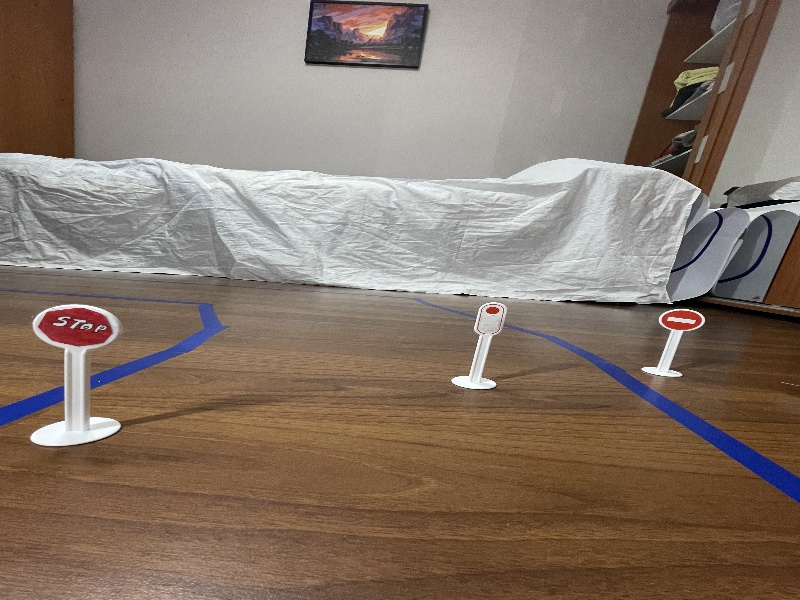interzis: (659, 303, 706, 338)
semafor_rosu: (467, 297, 509, 342)
stop: (27, 296, 125, 355)
